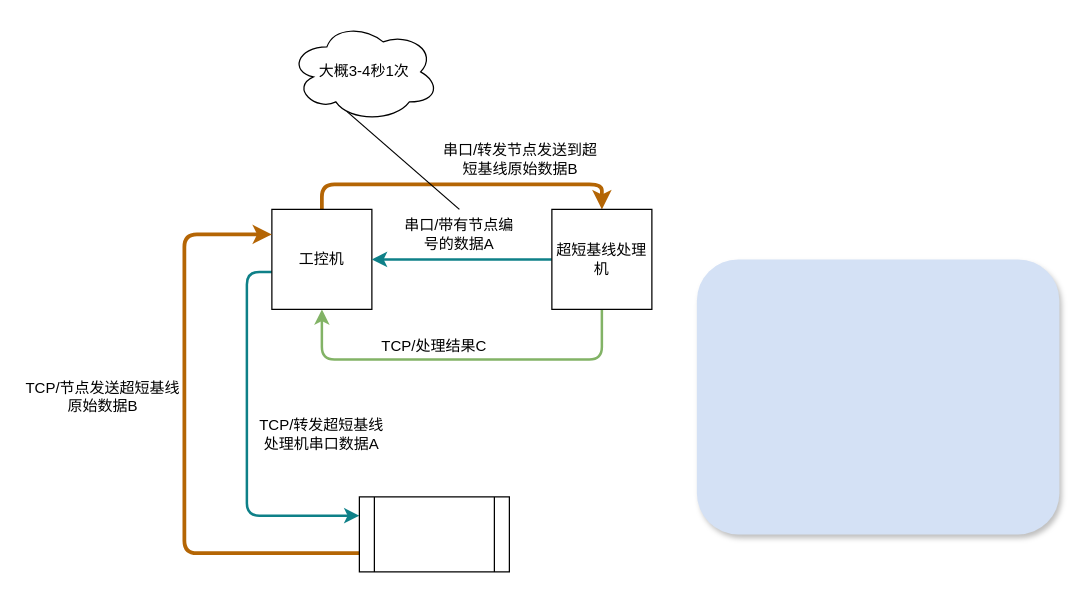
The diagram is 1088 pixels wide and 594 high, and some of its shapes have lost their labels. Here are the shapes that lost their labels. From the top down, the centre of each, then its label:
pixel 878 398: 数据 数据A 超短基线处理PC发给节点各个超短基线单元的数据，走蓝线 数据B 超短基线节点单元发给处理机的数据，走褐色线 数据C 超短基线测量结果，走绿线
pixel 433 534: 拖缆节点
